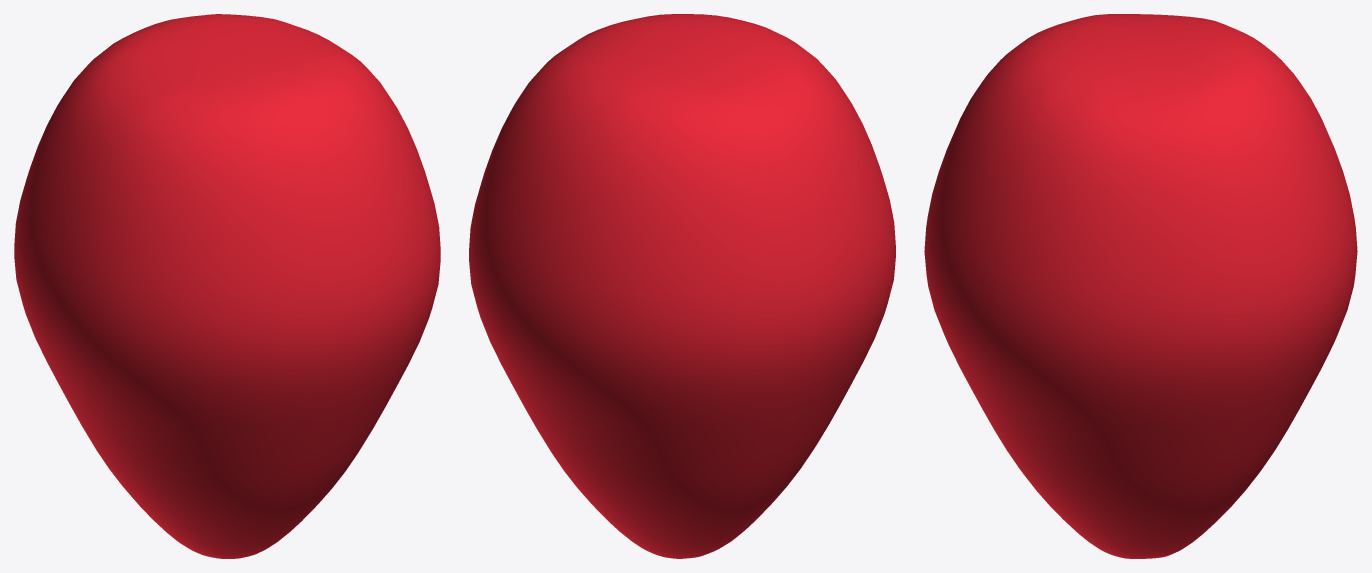
File: strawberry2.fbx
The picture shows the model from 3 angles, left to right: view 1: azimuth 30°, elevation 25°; view 2: azimuth 150°, elevation 25°; view 3: azimuth 270°, elevation 25°; orthographic projection.
Visible parts, largest first — view 1: Cylinder.002; view 2: Cylinder.002; view 3: Cylinder.002.
Part boxes in pixels (x1,y1,x2,y2): Cylinder.002: (14, 14, 440, 558); Cylinder.002: (469, 14, 895, 558); Cylinder.002: (924, 14, 1357, 558).
Bounding box in the file's own units: 210 × 273 × 214.
